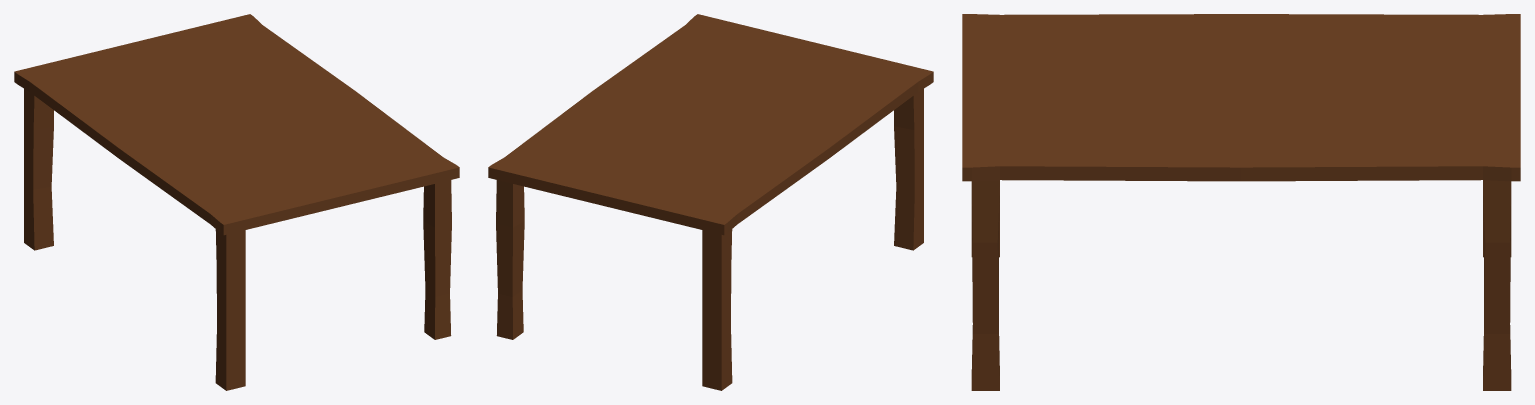
The model's file is Tisch.fbx.
The picture shows the model from 3 angles, left to right: view 1: azimuth 30°, elevation 25°; view 2: azimuth 150°, elevation 25°; view 3: azimuth 270°, elevation 25°; orthographic projection. The views are drawn at different scales.
Visible parts, largest first — view 1: Tisch; view 2: Tisch; view 3: Tisch.
Part boxes in pixels (bbox=[...]): Tisch: bbox=[14, 14, 459, 390]; Tisch: bbox=[488, 14, 933, 390]; Tisch: bbox=[962, 14, 1520, 390].
Size of the model in its own units: 544 by 374 by 836.
